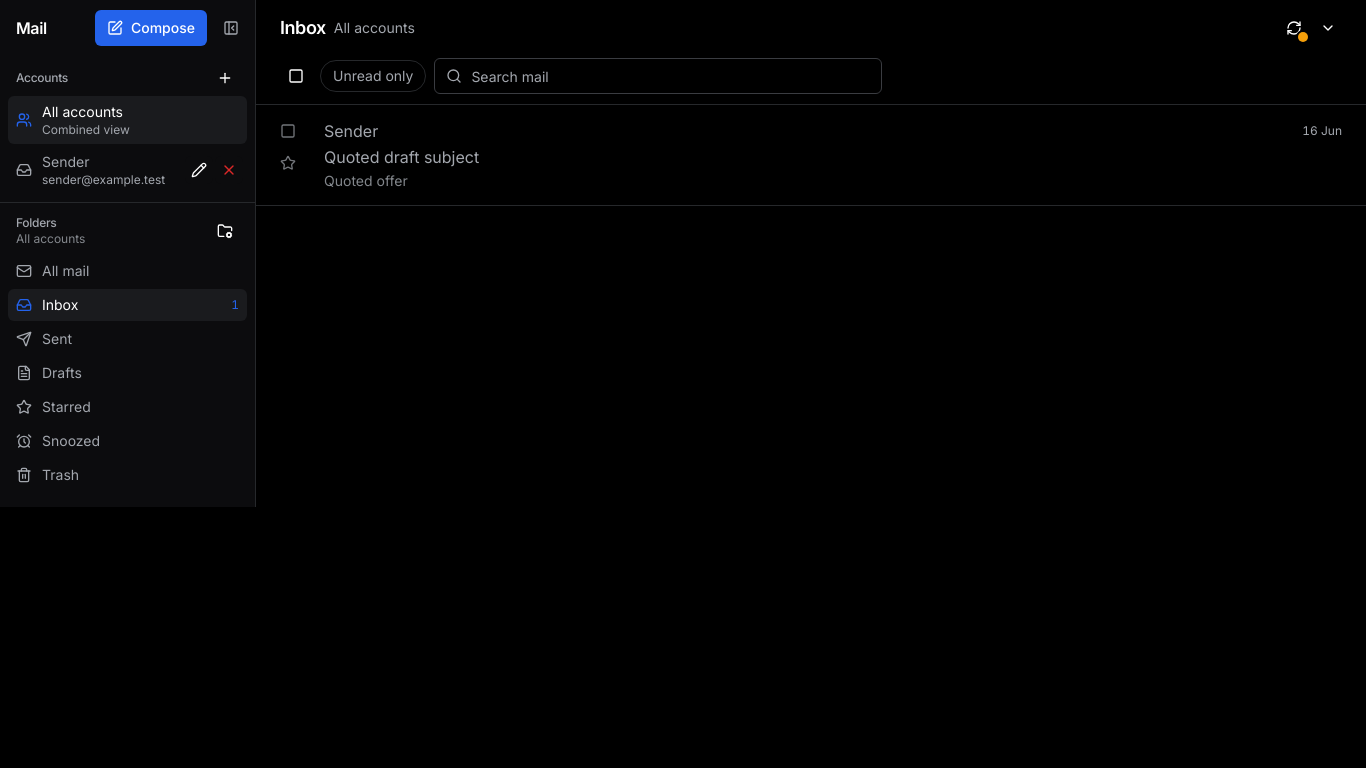
MailPage UI regressions › opens a stored draft with inert content in the editor
Step 1. Click the text "Quoted draft subject" → click(402, 157), box [324,147,479,167]
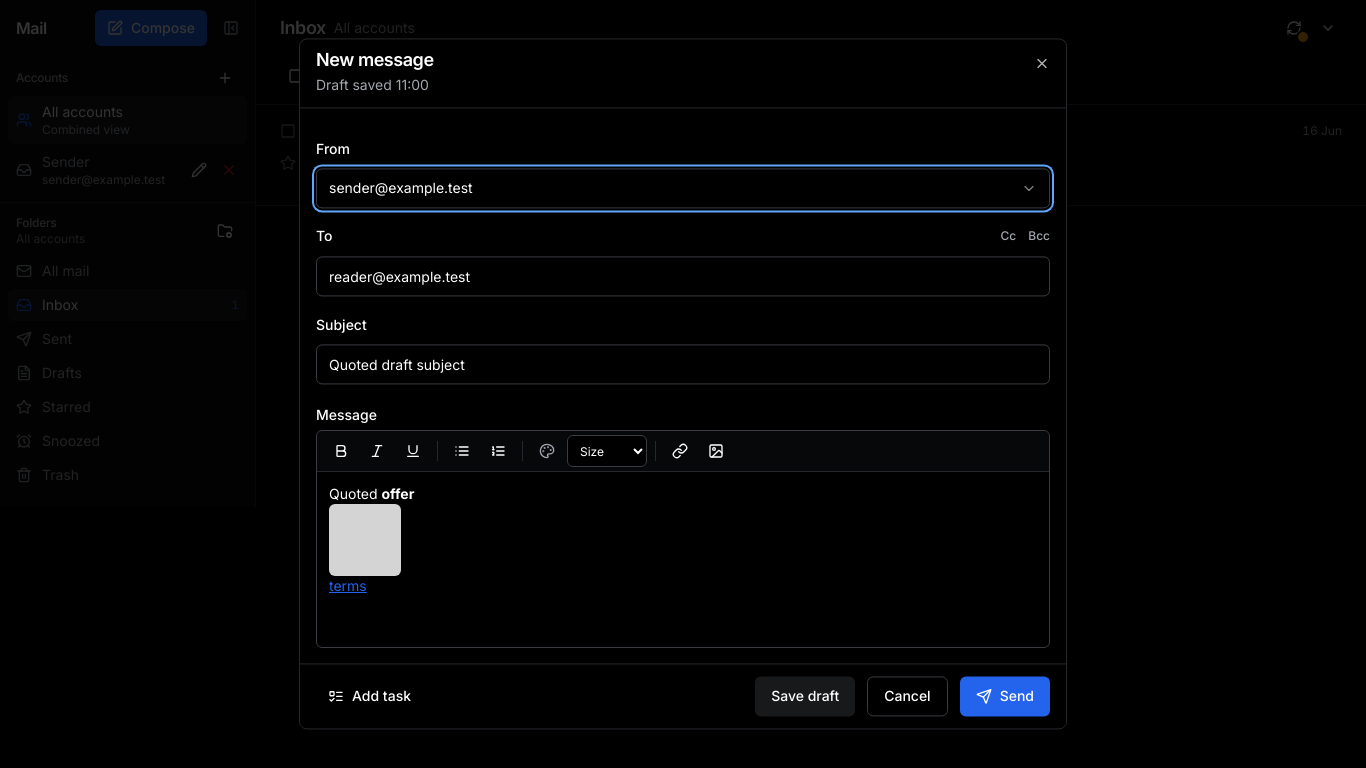
expect the dialog is shown: met, box [299,38,1067,730]
expect the text box labelled "offer" is shown: met, box [382,485,414,502]
